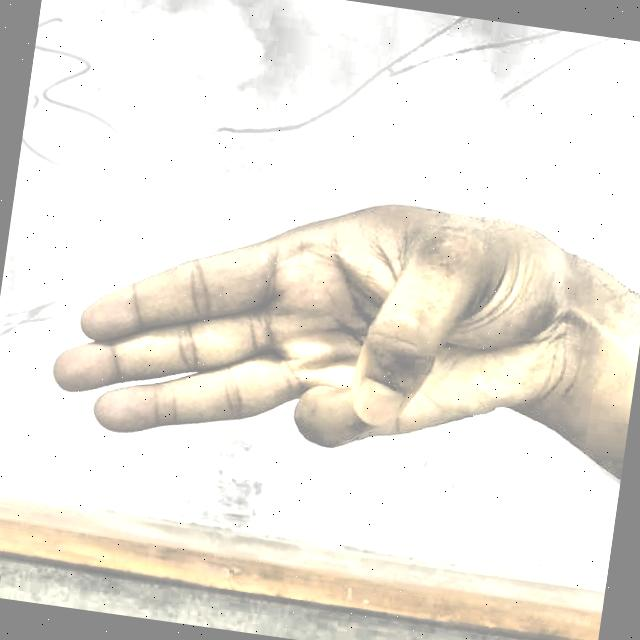Ma: (20, 93, 613, 560)
